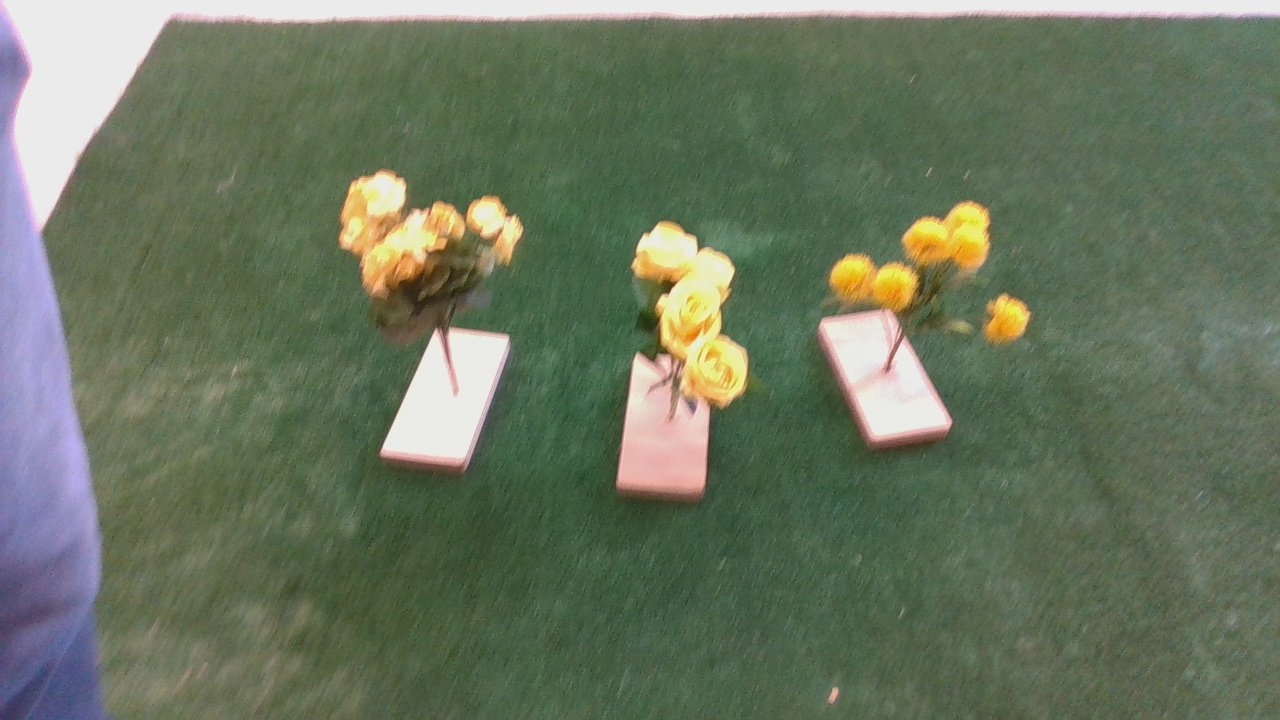dandelion: (823, 196, 1050, 355)
geranium: (320, 155, 539, 335)
rose: (634, 212, 770, 423)
